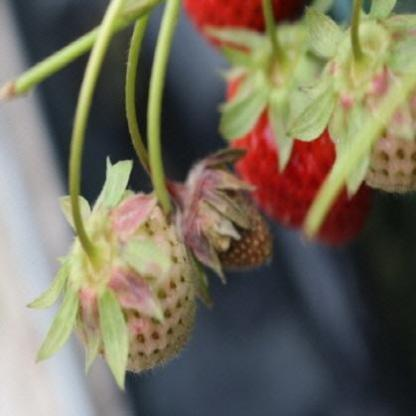Strawberry_Gray_Mold: (166, 148, 272, 284)
